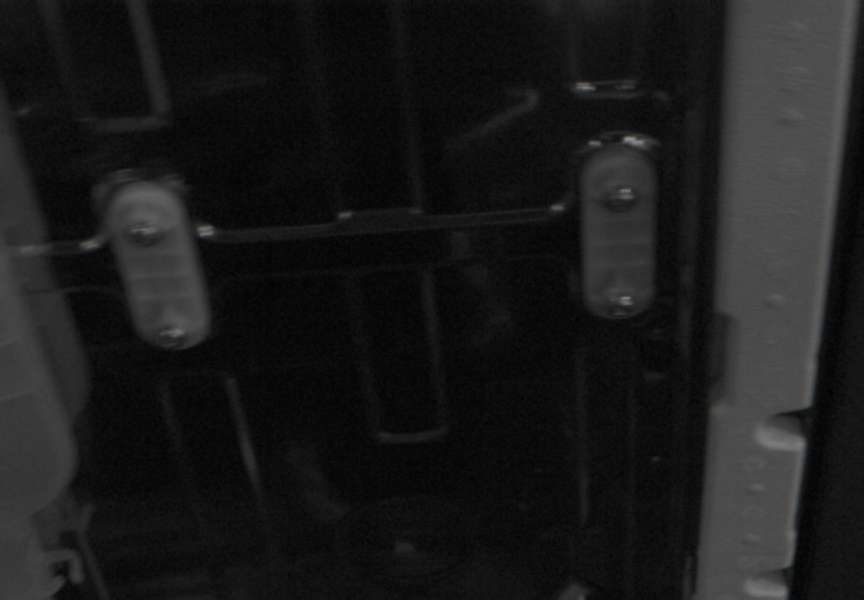screw: (124, 221, 165, 247), (603, 185, 638, 212), (155, 325, 188, 350), (607, 291, 637, 318)
